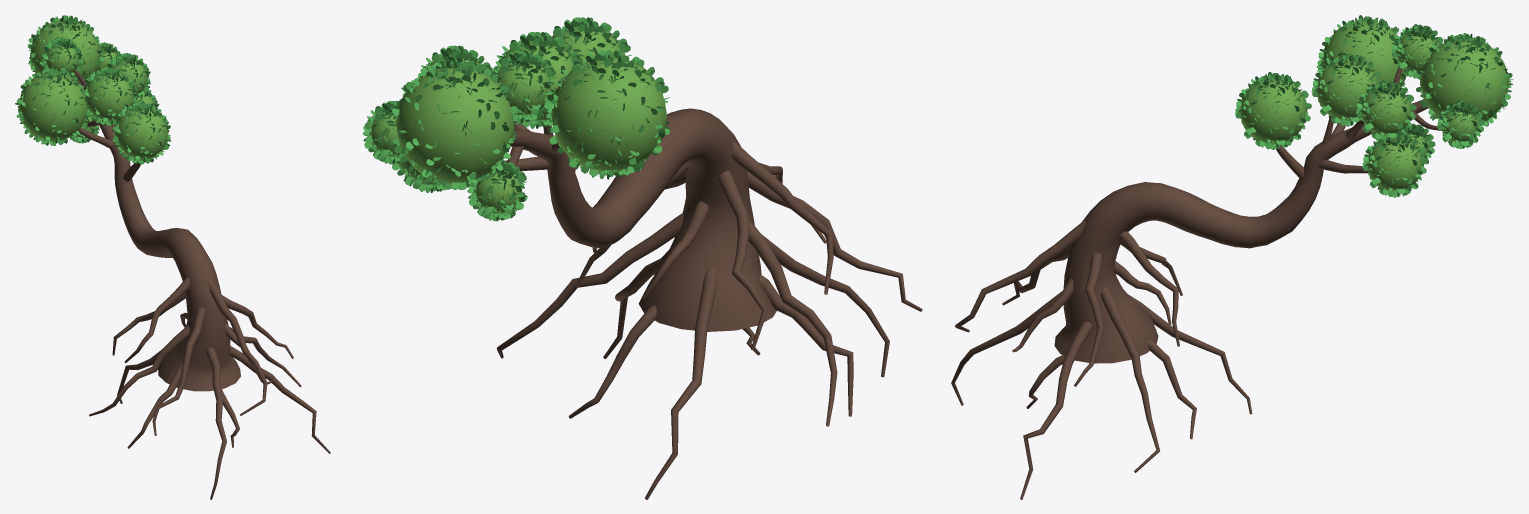
File: SM_Tree_01.fbx
3 views of the same model, side by side, from view 1: azimuth 30°, elevation 25°; view 2: azimuth 150°, elevation 25°; view 3: azimuth 270°, elevation 25° (orthographic). The views are drawn at different scales.
Visible parts, largest first — view 1: Plane.751; view 2: Plane.751; view 3: Plane.751.
Part boxes in pixels (x1,y1,x2,y2): Plane.751: [15, 15, 330, 499]; Plane.751: [362, 17, 922, 499]; Plane.751: [951, 15, 1513, 499].
Bounding box in the file's own units: 3.26 × 5 × 6.21.
